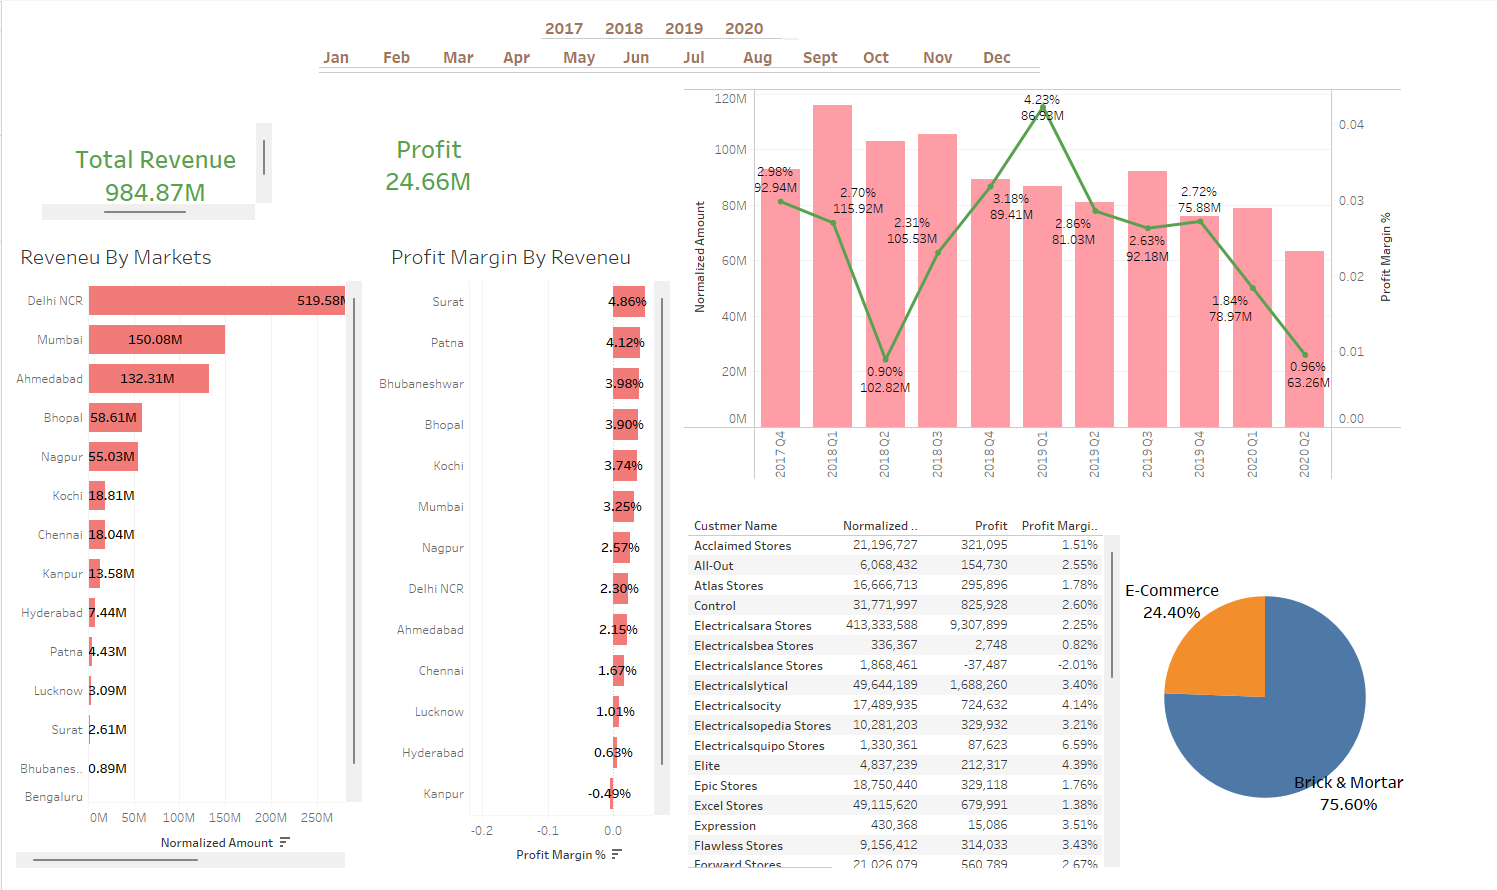

What the dashboard file says about the page in this screenshot:
{"tool":"tableau","page":{"name":"Dashboard:Profit Analysis","canvas":[1500,900],"ordinal":0},"visuals":[{"type":"worksheet","title":"Year","mark":"Automatic","cols":["cy_date"],"box":[539,1,291,39]},{"type":"worksheet","title":"Month","mark":"Automatic","cols":["cy_date"],"box":[317,46,740,49]},{"type":"worksheet","title":"Profit Trend","mark":"Bar","rows":["Calculation_1693916443407073280","Calculation_812055342764064771"],"cols":["cy_date"],"box":[682,88,718,391]},{"type":"worksheet","title":"Reveneu","mark":"Automatic","box":[40,122,230,97]},{"type":"worksheet","title":"Profit","mark":"Automatic","box":[377,131,137,73]},{"type":"worksheet","title":"Reveneu By Markets","mark":"Automatic","rows":["markets_name"],"cols":["Calculation_1693916443407073280"],"box":[14,237,346,630]},{"type":"worksheet","title":"Profit Margin By Reveneu","mark":"Automatic","rows":["markets_name"],"cols":["Calculation_812055342764064771"],"box":[367,237,301,632]},{"type":"worksheet","title":"Pia Chart","mark":"Pie","box":[1123,513,280,351]},{"type":"worksheet","title":"Customer table","mark":"Automatic","rows":["custmer_name"],"box":[686,514,434,353]}]}

Visuals, with their boxes in screenshot pixels (x1, y1, x2, y2), scaled from the page's 1500x900 canvas onto the 1497x890 screenshot:
"Year" worksheet: crop(538, 1, 828, 40)
"Month" worksheet: crop(316, 45, 1055, 94)
"Profit Trend" worksheet (Bar marks): crop(681, 87, 1397, 474)
"Reveneu" worksheet: crop(40, 121, 269, 217)
"Profit" worksheet: crop(376, 130, 513, 202)
"Reveneu By Markets" worksheet: crop(14, 234, 359, 857)
"Profit Margin By Reveneu" worksheet: crop(366, 234, 667, 859)
"Pia Chart" worksheet (Pie marks): crop(1121, 507, 1400, 854)
"Customer table" worksheet: crop(685, 508, 1118, 857)
